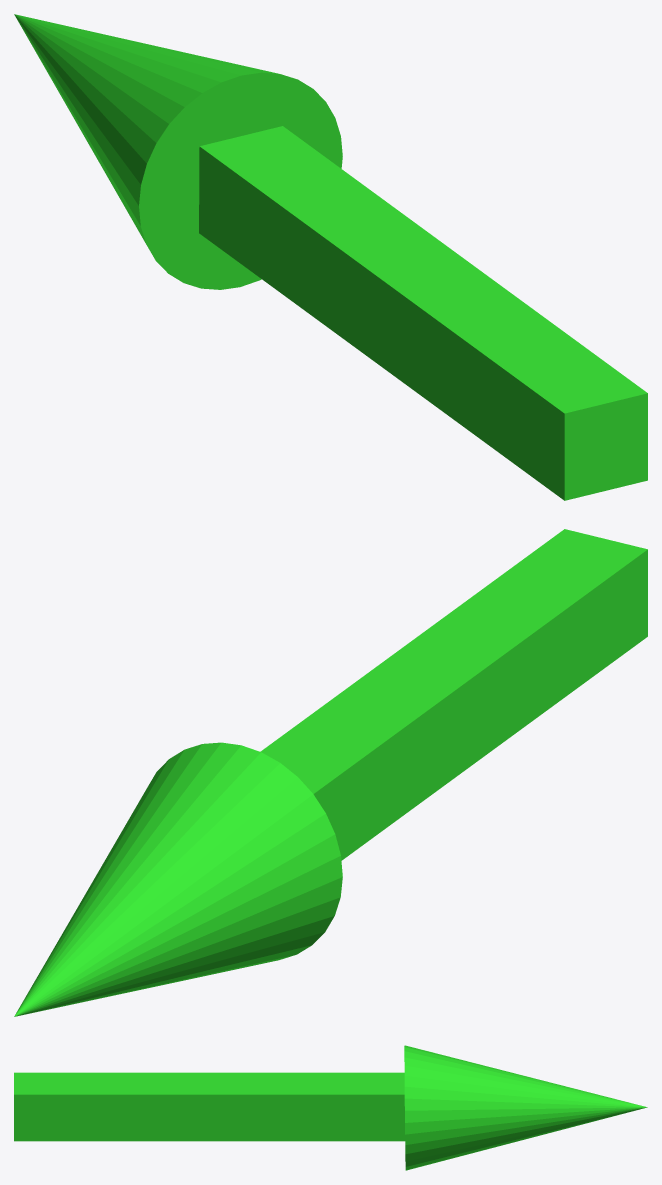
File: arrow.glb
3 views of the same model, one above another, from view 1: azimuth 30°, elevation 25°; view 2: azimuth 150°, elevation 25°; view 3: azimuth 270°, elevation 25° (orthographic). The views are drawn at different scales.
Visible parts, largest first — view 1: Cube, Cube.001, Cube.002; view 2: Cube, Cube.001, Cube.002; view 3: Cube, Cube.001, Cube.002.
Boxes of the visible parts, left/top/right/bottom form: Cube: left=14, top=14, right=647, bottom=500; Cube.001: left=285, top=190, right=553, bottom=431; Cube.002: left=199, top=126, right=461, bottom=334; Cube: left=14, top=529, right=647, bottom=1016; Cube.001: left=286, top=598, right=554, bottom=818; Cube.002: left=260, top=666, right=461, bottom=860; Cube: left=14, top=1045, right=647, bottom=1170; Cube.001: left=113, top=1072, right=312, bottom=1141; Cube.002: left=213, top=1072, right=405, bottom=1141.
Bounding box in the file's own units: 4.89 × 4.87 × 24.62.
